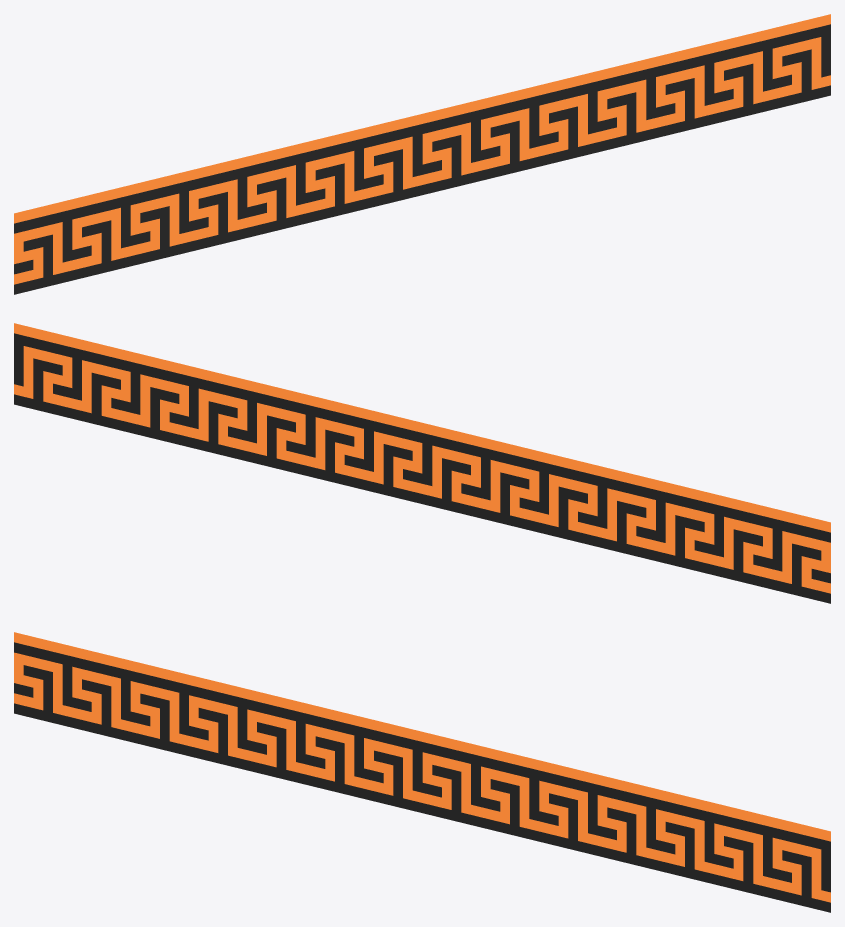
The model's file is bridge.glb.
The picture shows the model from 3 angles, top to bottom: view 1: azimuth 30°, elevation 25°; view 2: azimuth 150°, elevation 25°; view 3: azimuth 330°, elevation 25°; orthographic projection.
Parts seen in each view (by area): view 1: Cube.068; view 2: Cube.068; view 3: Cube.068.
Boxes of the visible parts, box(x1,y1,x2,y2) form: Cube.068: box(14, 14, 830, 294); Cube.068: box(14, 323, 830, 603); Cube.068: box(14, 632, 830, 912).
Size of the model in its own units: 14 by 1.33 by 0.
